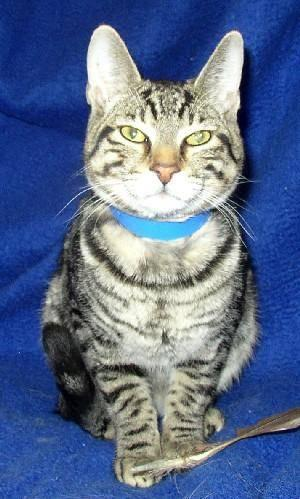cat: (42, 25, 258, 486)
